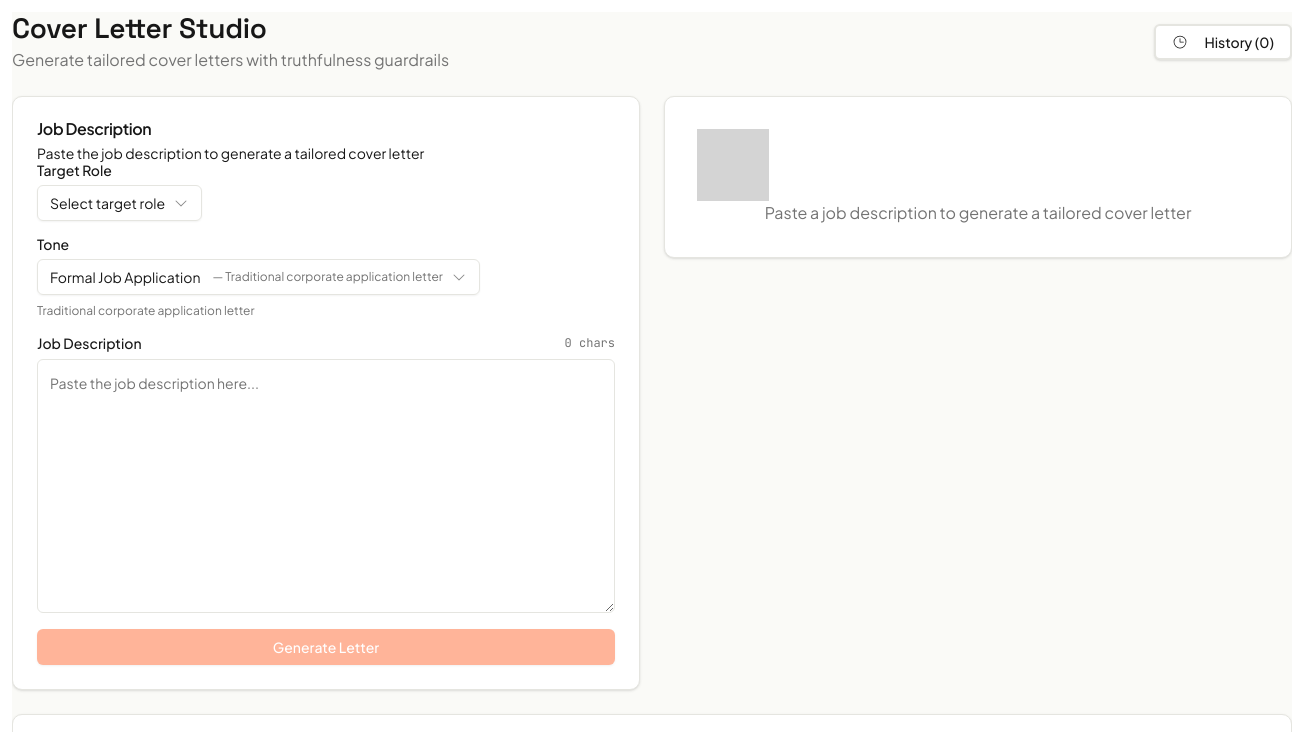
Test: CoverLetterStudio › enables the generate button once a job description is entered
Step 1. Type "We need an Amazon PPC VA" into the text box with placeholder "Paste the job description here..." → x=326, y=486, box [37,359,615,613]
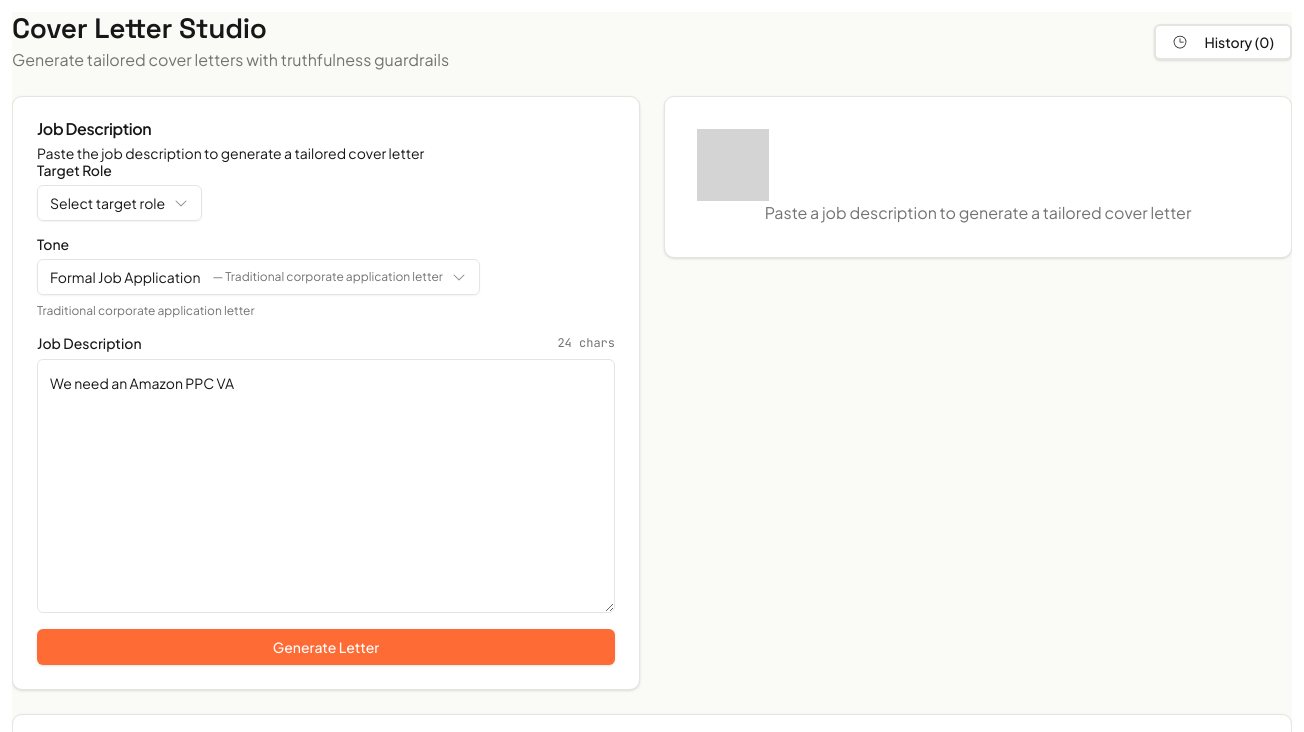
Now the button "Generate Letter" is enabled, box [37,629,615,665]
